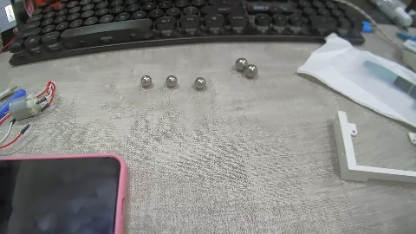ironball: (234, 55, 247, 72), (192, 74, 205, 90), (243, 63, 257, 77), (163, 75, 176, 88), (139, 74, 150, 86)
